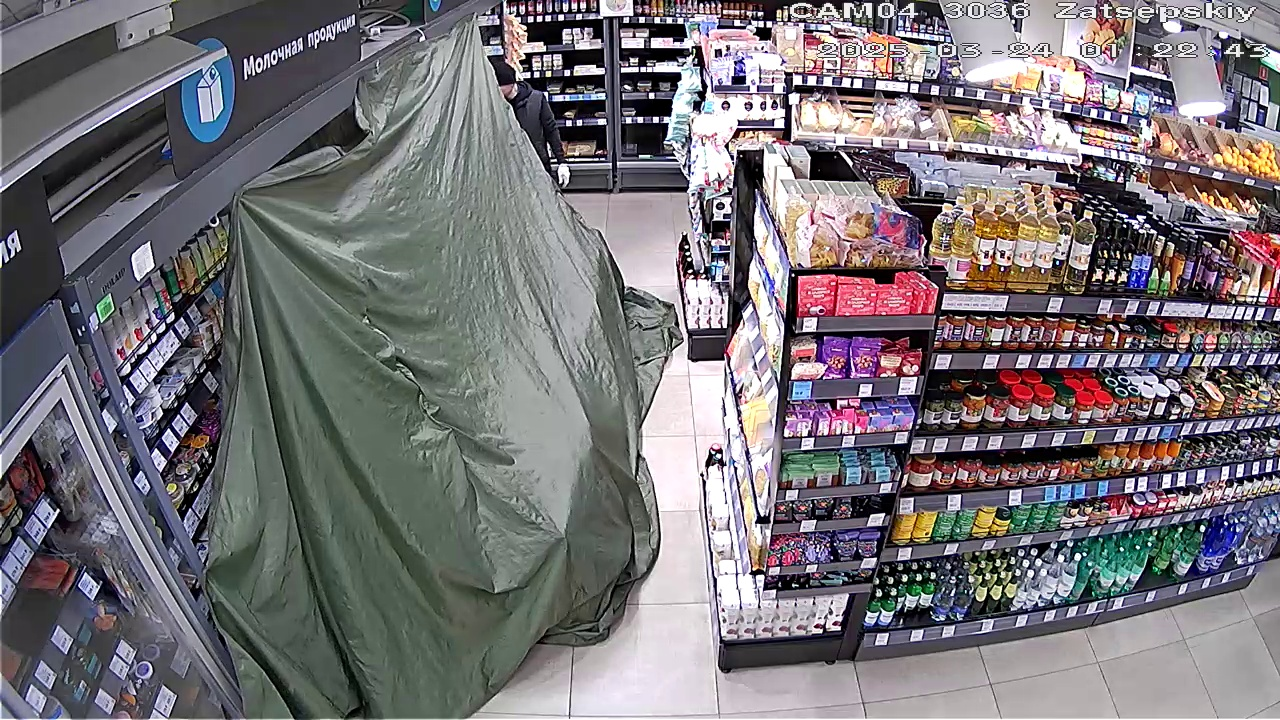Human: (488, 54, 580, 186)
dome: (206, 32, 683, 706)
